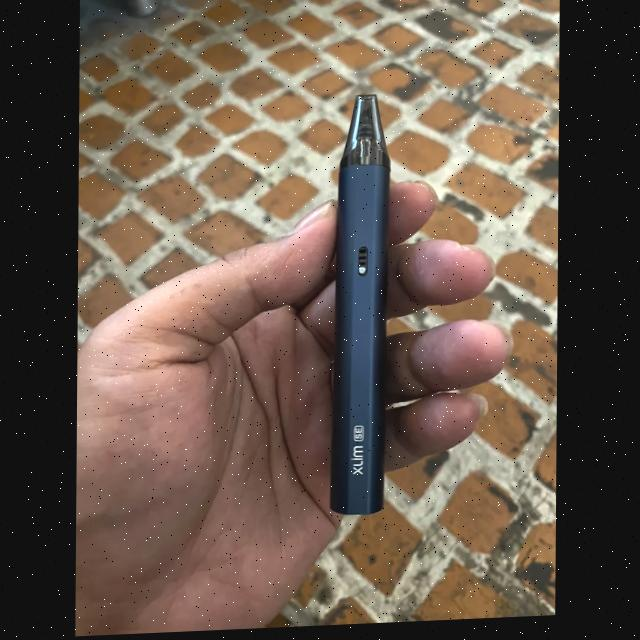vape: (332, 96, 392, 523)
